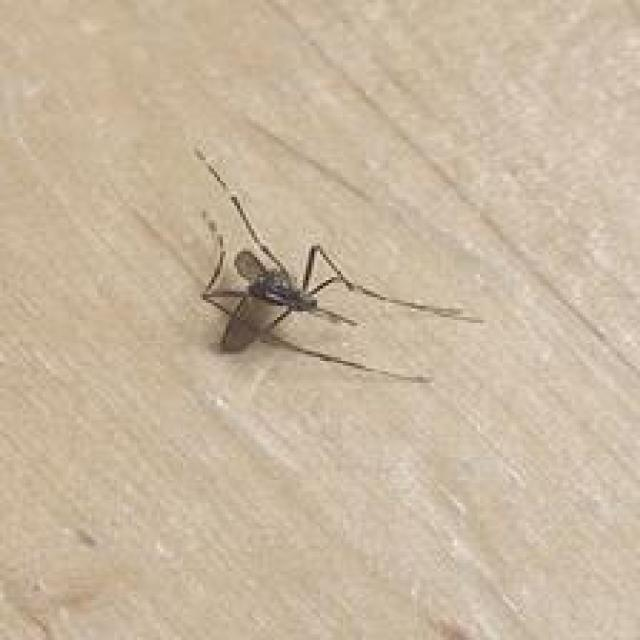Aedes albopictus: (191, 144, 486, 384)
